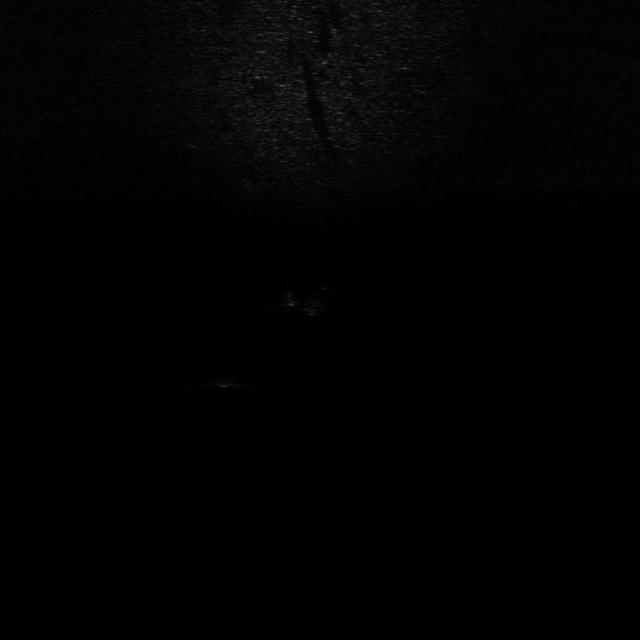ball: (212, 360, 247, 392)
human body: (287, 281, 333, 320)
